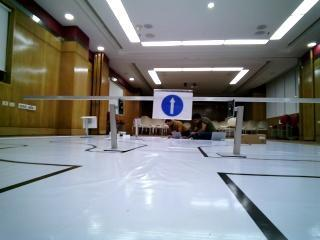straight: (153, 89, 194, 120)
